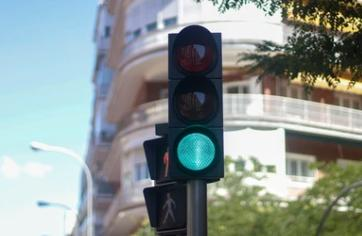green_light: (168, 25, 223, 179)
